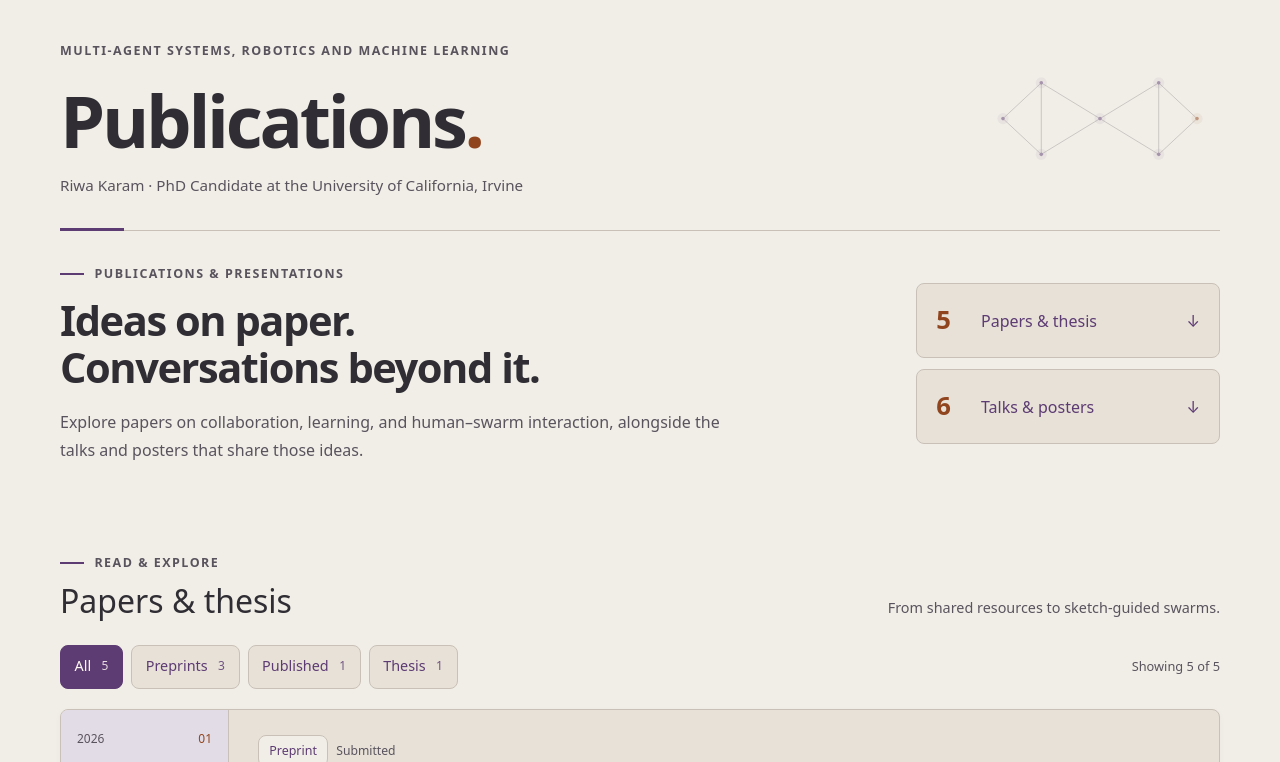
Scenario: a presentation link reveals its paper even when a different filter is selected
Click the button "Thesis 1" at (413, 666), box [369,644,458,688]
(page scrolled)
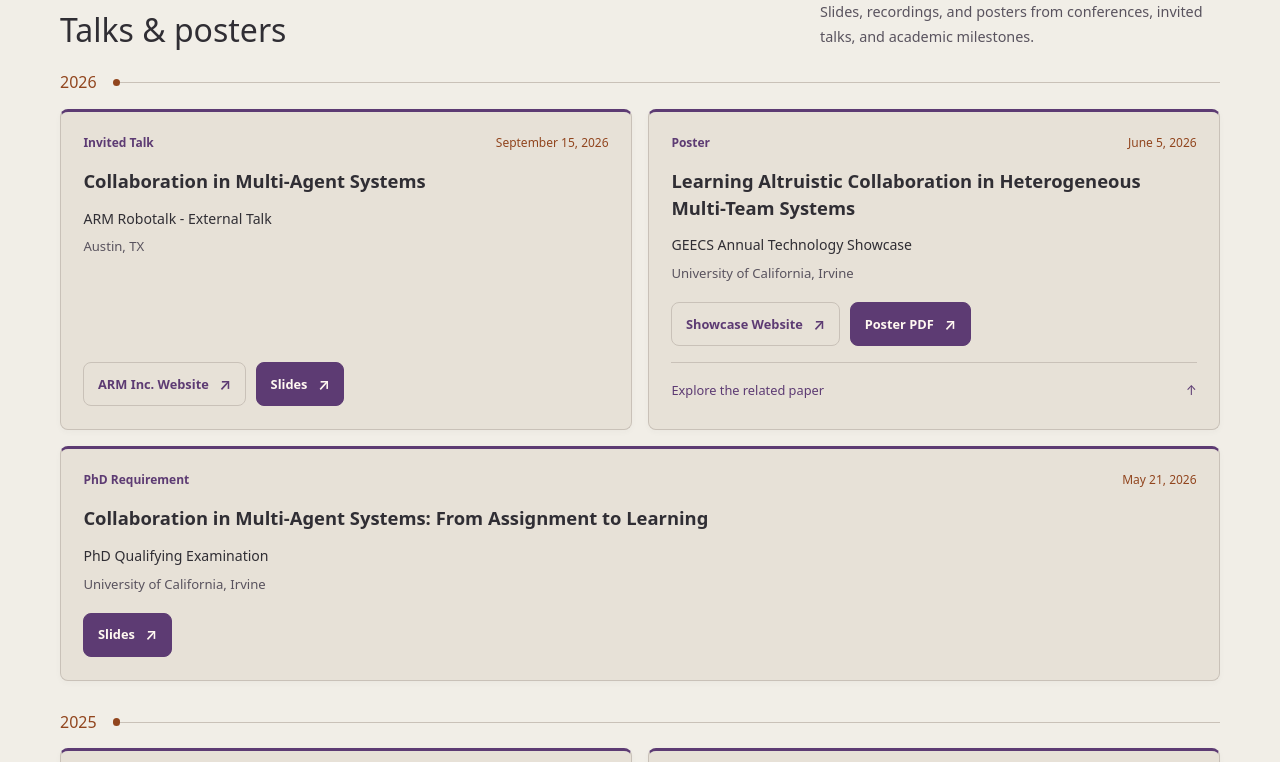
Click the link "Explore the related paper ↑" at (730, 390), box [671,362,1197,406]
(page scrolled)
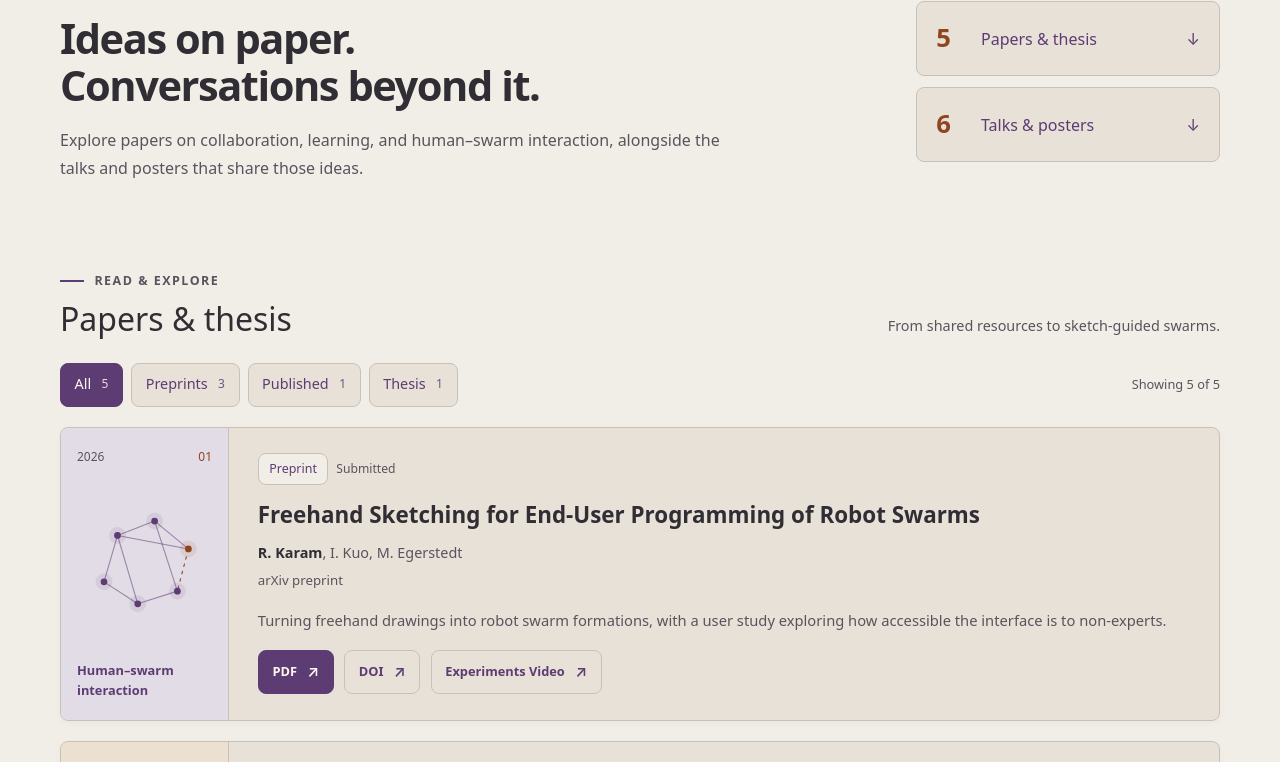
Check: the message reads "Showing 5 of 5", box [1132,373,1220,396]
